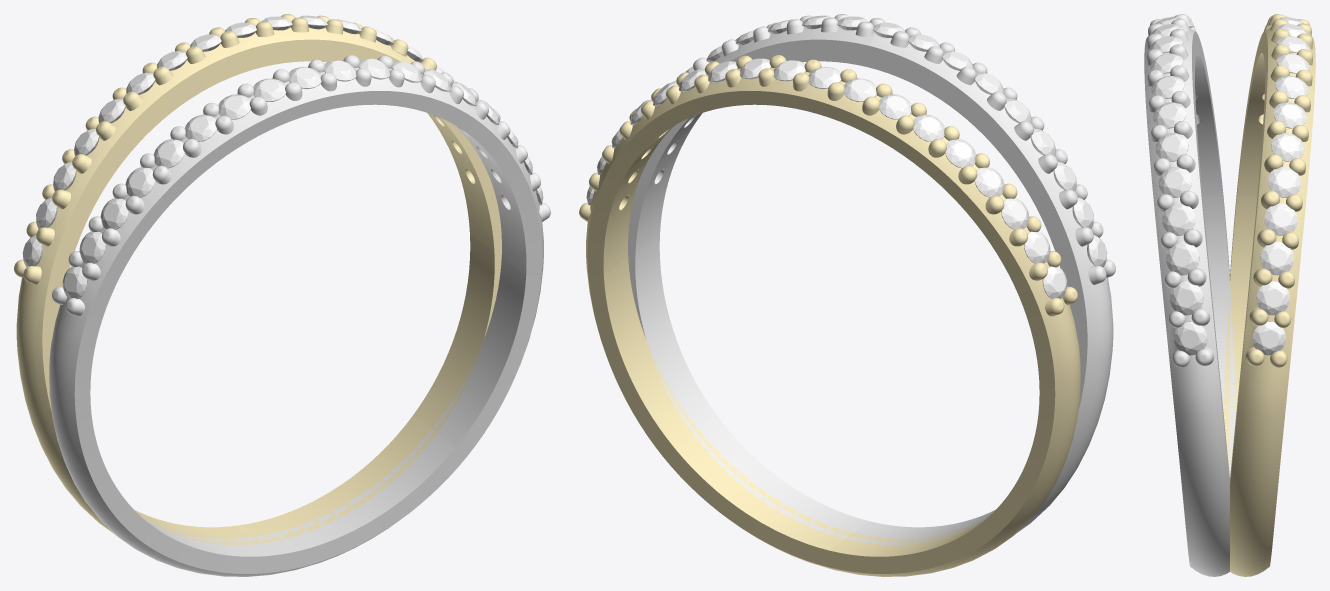
The model's file is puzzle_59.glb.
The picture shows the model from 3 angles, left to right: view 1: azimuth 30°, elevation 25°; view 2: azimuth 150°, elevation 25°; view 3: azimuth 270°, elevation 25°; orthographic projection.
Visible parts, largest first — view 1: G3_Obj_2_Gold2, G3_Obj_1_Gold1, G2_Obj_14_Gem3, G2_Obj_15_Gem3, G2_Obj_16_Gem3, G2_Obj_13_Gem3, G2_Obj_17_Gem3; view 2: G3_Obj_1_Gold1, G3_Obj_2_Gold2, G1_Obj_5_Dia, G1_Obj_4_Dia, G1_Obj_3_Dia, G1_Obj_6_Dia, G1_Obj_2_Dia; view 3: G3_Obj_1_Gold1, G3_Obj_2_Gold2, G1_Obj_17_Dia, G2_Obj_2_Gem3, G1_Obj_16_Dia, G2_Obj_3_Gem3, G1_Obj_18_Dia, G2_Obj_1_Gem3, G1_Obj_15_Dia, G2_Obj_4_Gem3, G1_Obj_14_Dia, G2_Obj_5_Gem3 (+32 smaller).
Boxes of the visible parts, x1,y1,x2,y2 form: G3_Obj_2_Gold2: [49, 67, 543, 576]; G3_Obj_1_Gold1: [16, 27, 501, 544]; G2_Obj_14_Gem3: [153, 139, 184, 168]; G2_Obj_15_Gem3: [125, 167, 155, 197]; G2_Obj_16_Gem3: [100, 198, 128, 229]; G2_Obj_13_Gem3: [185, 114, 216, 141]; G2_Obj_17_Gem3: [79, 231, 105, 263]; G3_Obj_1_Gold1: [586, 67, 1080, 576]; G3_Obj_2_Gold2: [628, 27, 1113, 544]; G1_Obj_5_Dia: [945, 139, 976, 168]; G1_Obj_4_Dia: [974, 167, 1004, 197]; G1_Obj_3_Dia: [1001, 198, 1029, 229]; G1_Obj_6_Dia: [913, 114, 944, 141]; G1_Obj_2_Dia: [1024, 231, 1050, 263]; G3_Obj_1_Gold1: [1223, 27, 1315, 576]; G3_Obj_2_Gold2: [1144, 27, 1236, 576]; G1_Obj_17_Dia: [1256, 281, 1289, 315]; G2_Obj_2_Gem3: [1170, 281, 1203, 315]; G1_Obj_16_Dia: [1260, 241, 1293, 275]; G2_Obj_3_Gem3: [1166, 241, 1199, 275]; G1_Obj_18_Dia: [1252, 321, 1285, 355]; G2_Obj_1_Gem3: [1174, 321, 1207, 355]; G1_Obj_15_Dia: [1264, 203, 1297, 235]; G2_Obj_4_Gem3: [1162, 203, 1195, 235]; G1_Obj_14_Dia: [1268, 166, 1301, 197]; G2_Obj_5_Gem3: [1158, 166, 1191, 197].
Size of the model in its own units: 1.91 by 1.93 by 0.588.
